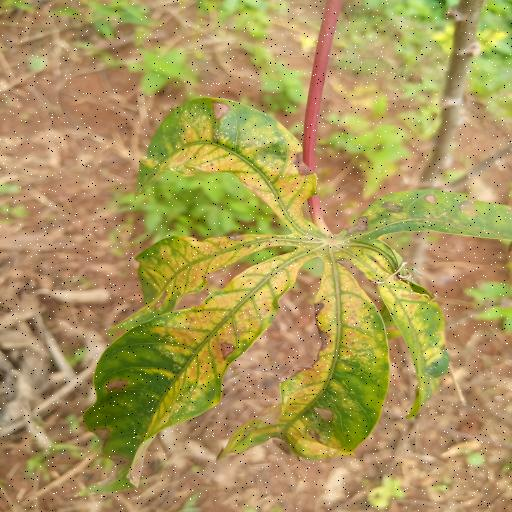Cassava_Mosaic: (82, 95, 512, 488)
